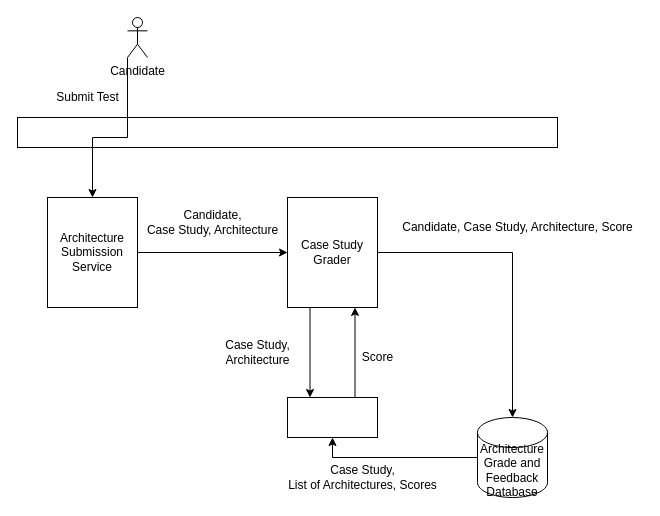
Some shapes in this 660 by 516 pixel diagram are drawn without their labels. Each missing label, with the centre of its shape:
"Public API Gateway" belongs at point 287,132.
"Scorer (Backed by LLM)" belongs at point 332,417.
